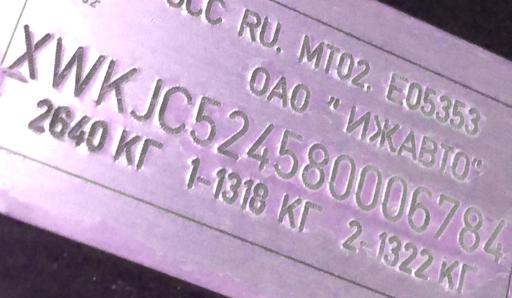letter: (50, 34, 106, 97), (91, 55, 139, 114), (6, 21, 52, 80), (156, 83, 194, 136), (215, 108, 251, 162), (188, 92, 222, 145), (270, 129, 304, 179), (352, 160, 384, 213), (128, 74, 162, 123), (298, 140, 330, 192), (456, 202, 486, 253), (431, 191, 463, 238), (244, 121, 274, 171), (326, 151, 356, 201), (378, 172, 408, 222), (405, 184, 435, 233), (482, 217, 506, 266)
